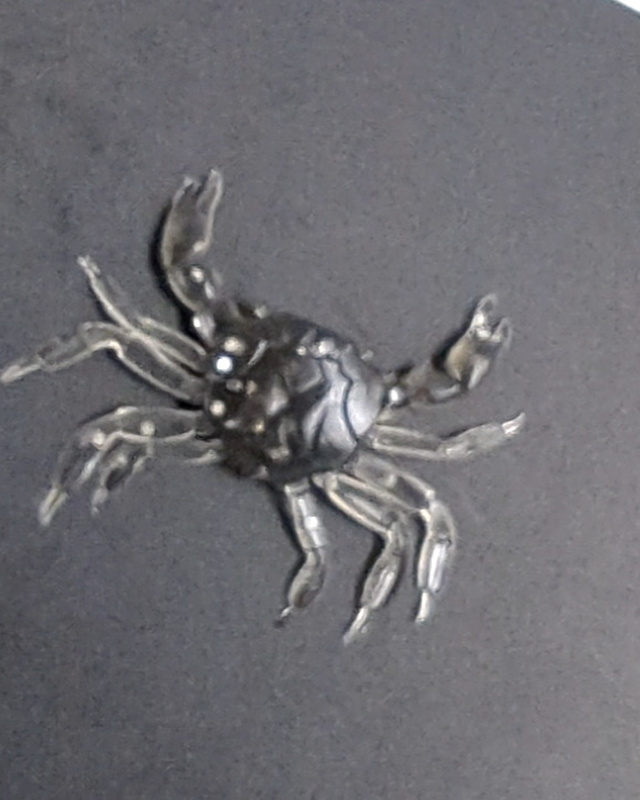crab1: (1, 165, 529, 645)
